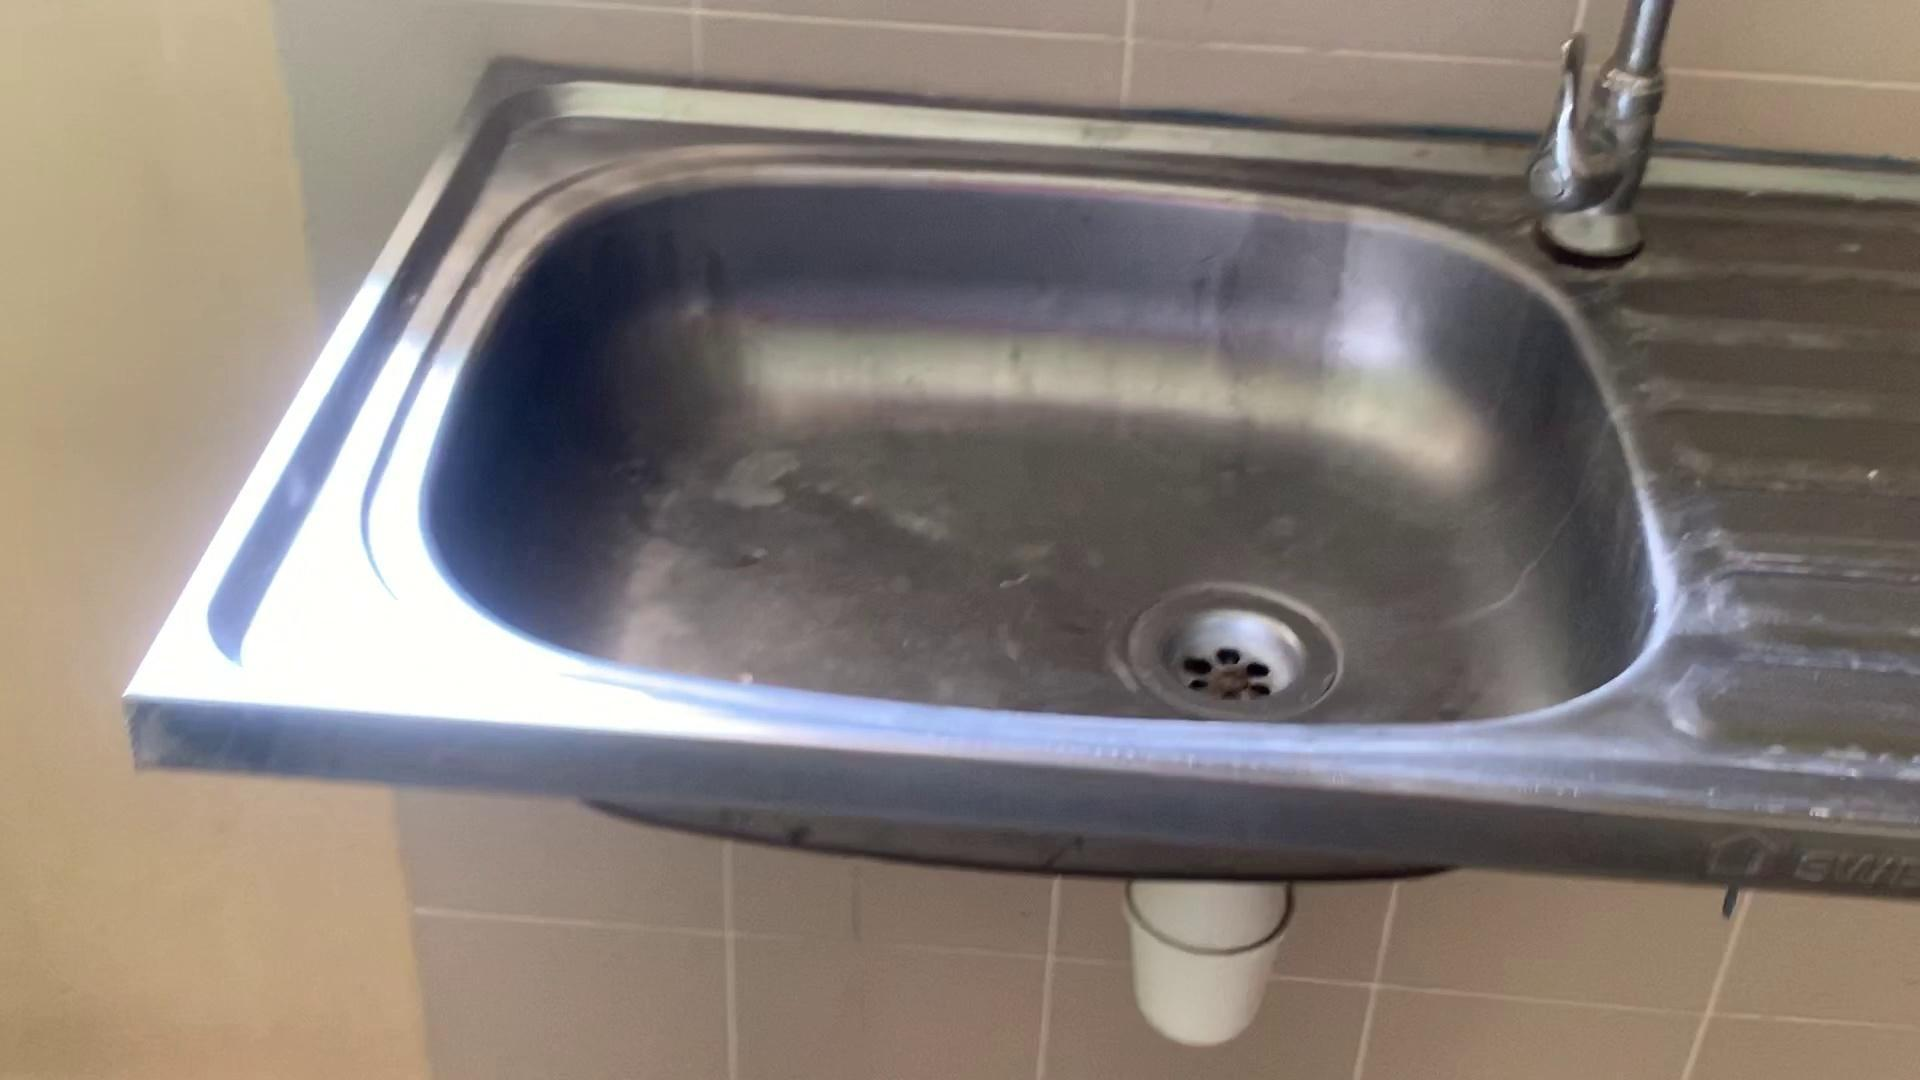Lavaplatos: (181, 46, 1775, 769)
